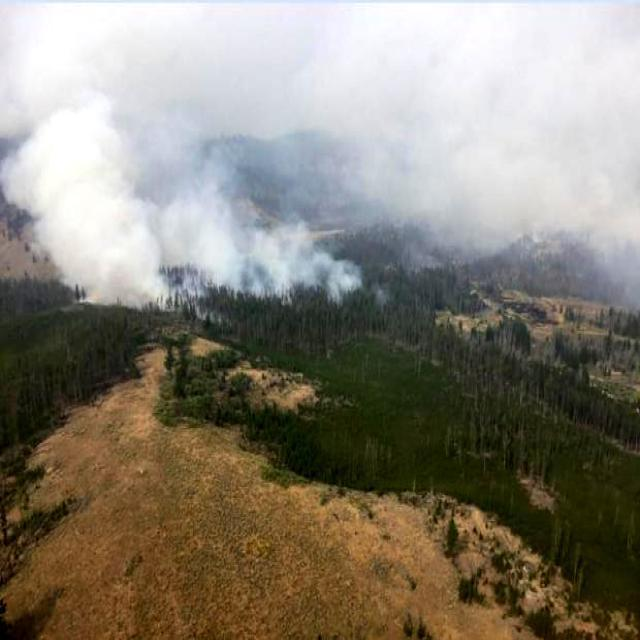Smoke: (0, 8, 640, 320)
